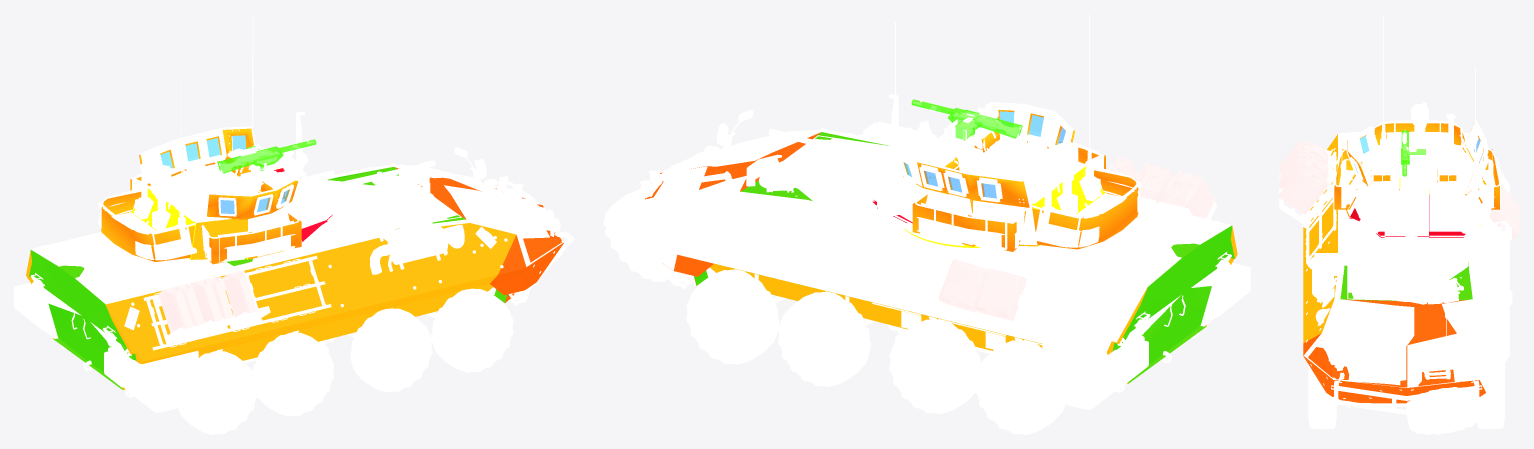
File: Coyote.gltf
3 renders of one model, left to right at view 1: azimuth 30°, elevation 25°; view 2: azimuth 150°, elevation 25°; view 3: azimuth 270°, elevation 25°, orthographic. The views are drawn at different scales.
Visible parts, largest first — view 1: 33, 33_1, LAV25_Col_1, 33_4, Coyote_Turret_Col_2, 33_2, LAV25_Col, 33_3, 33_5, LAV25_Col_3, 33_6, Pintle_M240G_Weapon_Col_1 (+3 smaller); view 2: 33, 33_1, 33_4, 33_2, LAV25_Col, Coyote_Turret_Col_2, 33_3, 33_5, LAV25_Col_1, Pintle_M240G_Weapon_Col_1, 33_6, LAV25_Col_2 (+2 smaller); view 3: 33, 33_4, 33_1, 33_3, LAV25_Col_1, 33_2, LAV25_Col_3, LAV25_Col_2, 33_5, Coyote_Turret_Col_2, 33_6, LAV25_Col (+3 smaller).
Boxes of the visible parts, x1=… form: 33: x1=26, y1=147, x2=563, y2=397; 33_1: x1=178, y1=188, x2=538, y2=434; LAV25_Col_1: x1=26, y1=223, x2=516, y2=389; 33_4: x1=98, y1=14, x2=368, y2=262; Coyote_Turret_Col_2: x1=101, y1=128, x2=301, y2=264; 33_2: x1=14, y1=178, x2=574, y2=412; LAV25_Col: x1=29, y1=167, x2=506, y2=389; 33_3: x1=159, y1=270, x2=256, y2=333; 33_5: x1=139, y1=126, x2=298, y2=216; LAV25_Col_3: x1=490, y1=235, x2=563, y2=302; 33_6: x1=282, y1=160, x2=435, y2=202; Pintle_M240G_Weapon_Col_1: x1=217, y1=139, x2=316, y2=173; 33: x1=629, y1=110, x2=1231, y2=392; 33_1: x1=603, y1=191, x2=1065, y2=434; 33_4: x1=833, y1=14, x2=1142, y2=250; 33_2: x1=617, y1=121, x2=1250, y2=409; LAV25_Col: x1=694, y1=132, x2=1234, y2=383; Coyote_Turret_Col_2: x1=903, y1=109, x2=1138, y2=251; 33_3: x1=939, y1=155, x2=1215, y2=320; 33_5: x1=875, y1=102, x2=1073, y2=216; LAV25_Col_1: x1=710, y1=226, x2=1237, y2=383; Pintle_M240G_Weapon_Col_1: x1=911, y1=99, x2=1022, y2=140; 33_6: x1=768, y1=129, x2=948, y2=170; LAV25_Col_2: x1=645, y1=132, x2=821, y2=199; 33: x1=1279, y1=131, x2=1512, y2=408; 33_4: x1=1334, y1=14, x2=1500, y2=242; 33_1: x1=1308, y1=363, x2=1504, y2=434; 33_3: x1=1279, y1=140, x2=1519, y2=239; LAV25_Col_1: x1=1303, y1=134, x2=1337, y2=342; 33_2: x1=1313, y1=181, x2=1507, y2=414; LAV25_Col_3: x1=1303, y1=333, x2=1485, y2=403; LAV25_Col_2: x1=1331, y1=299, x2=1479, y2=388; 33_5: x1=1346, y1=120, x2=1493, y2=223; Coyote_Turret_Col_2: x1=1334, y1=123, x2=1499, y2=218; 33_6: x1=1389, y1=193, x2=1425, y2=280; LAV25_Col: x1=1340, y1=262, x2=1472, y2=381.
Bounding box in the file's own units: 6.57 × 4.13 × 3.03.
